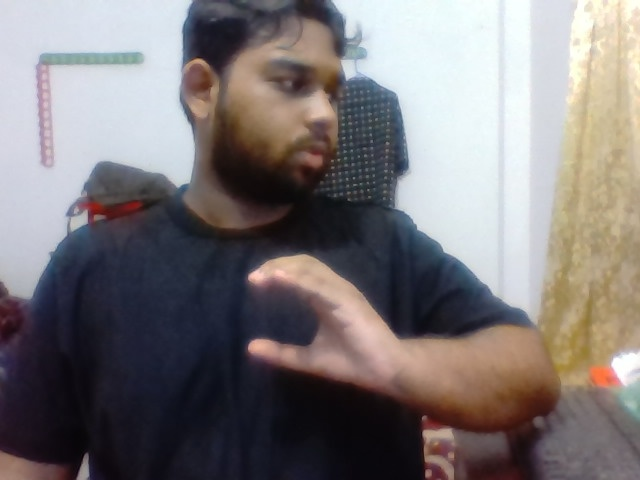C: (215, 248, 420, 413)
